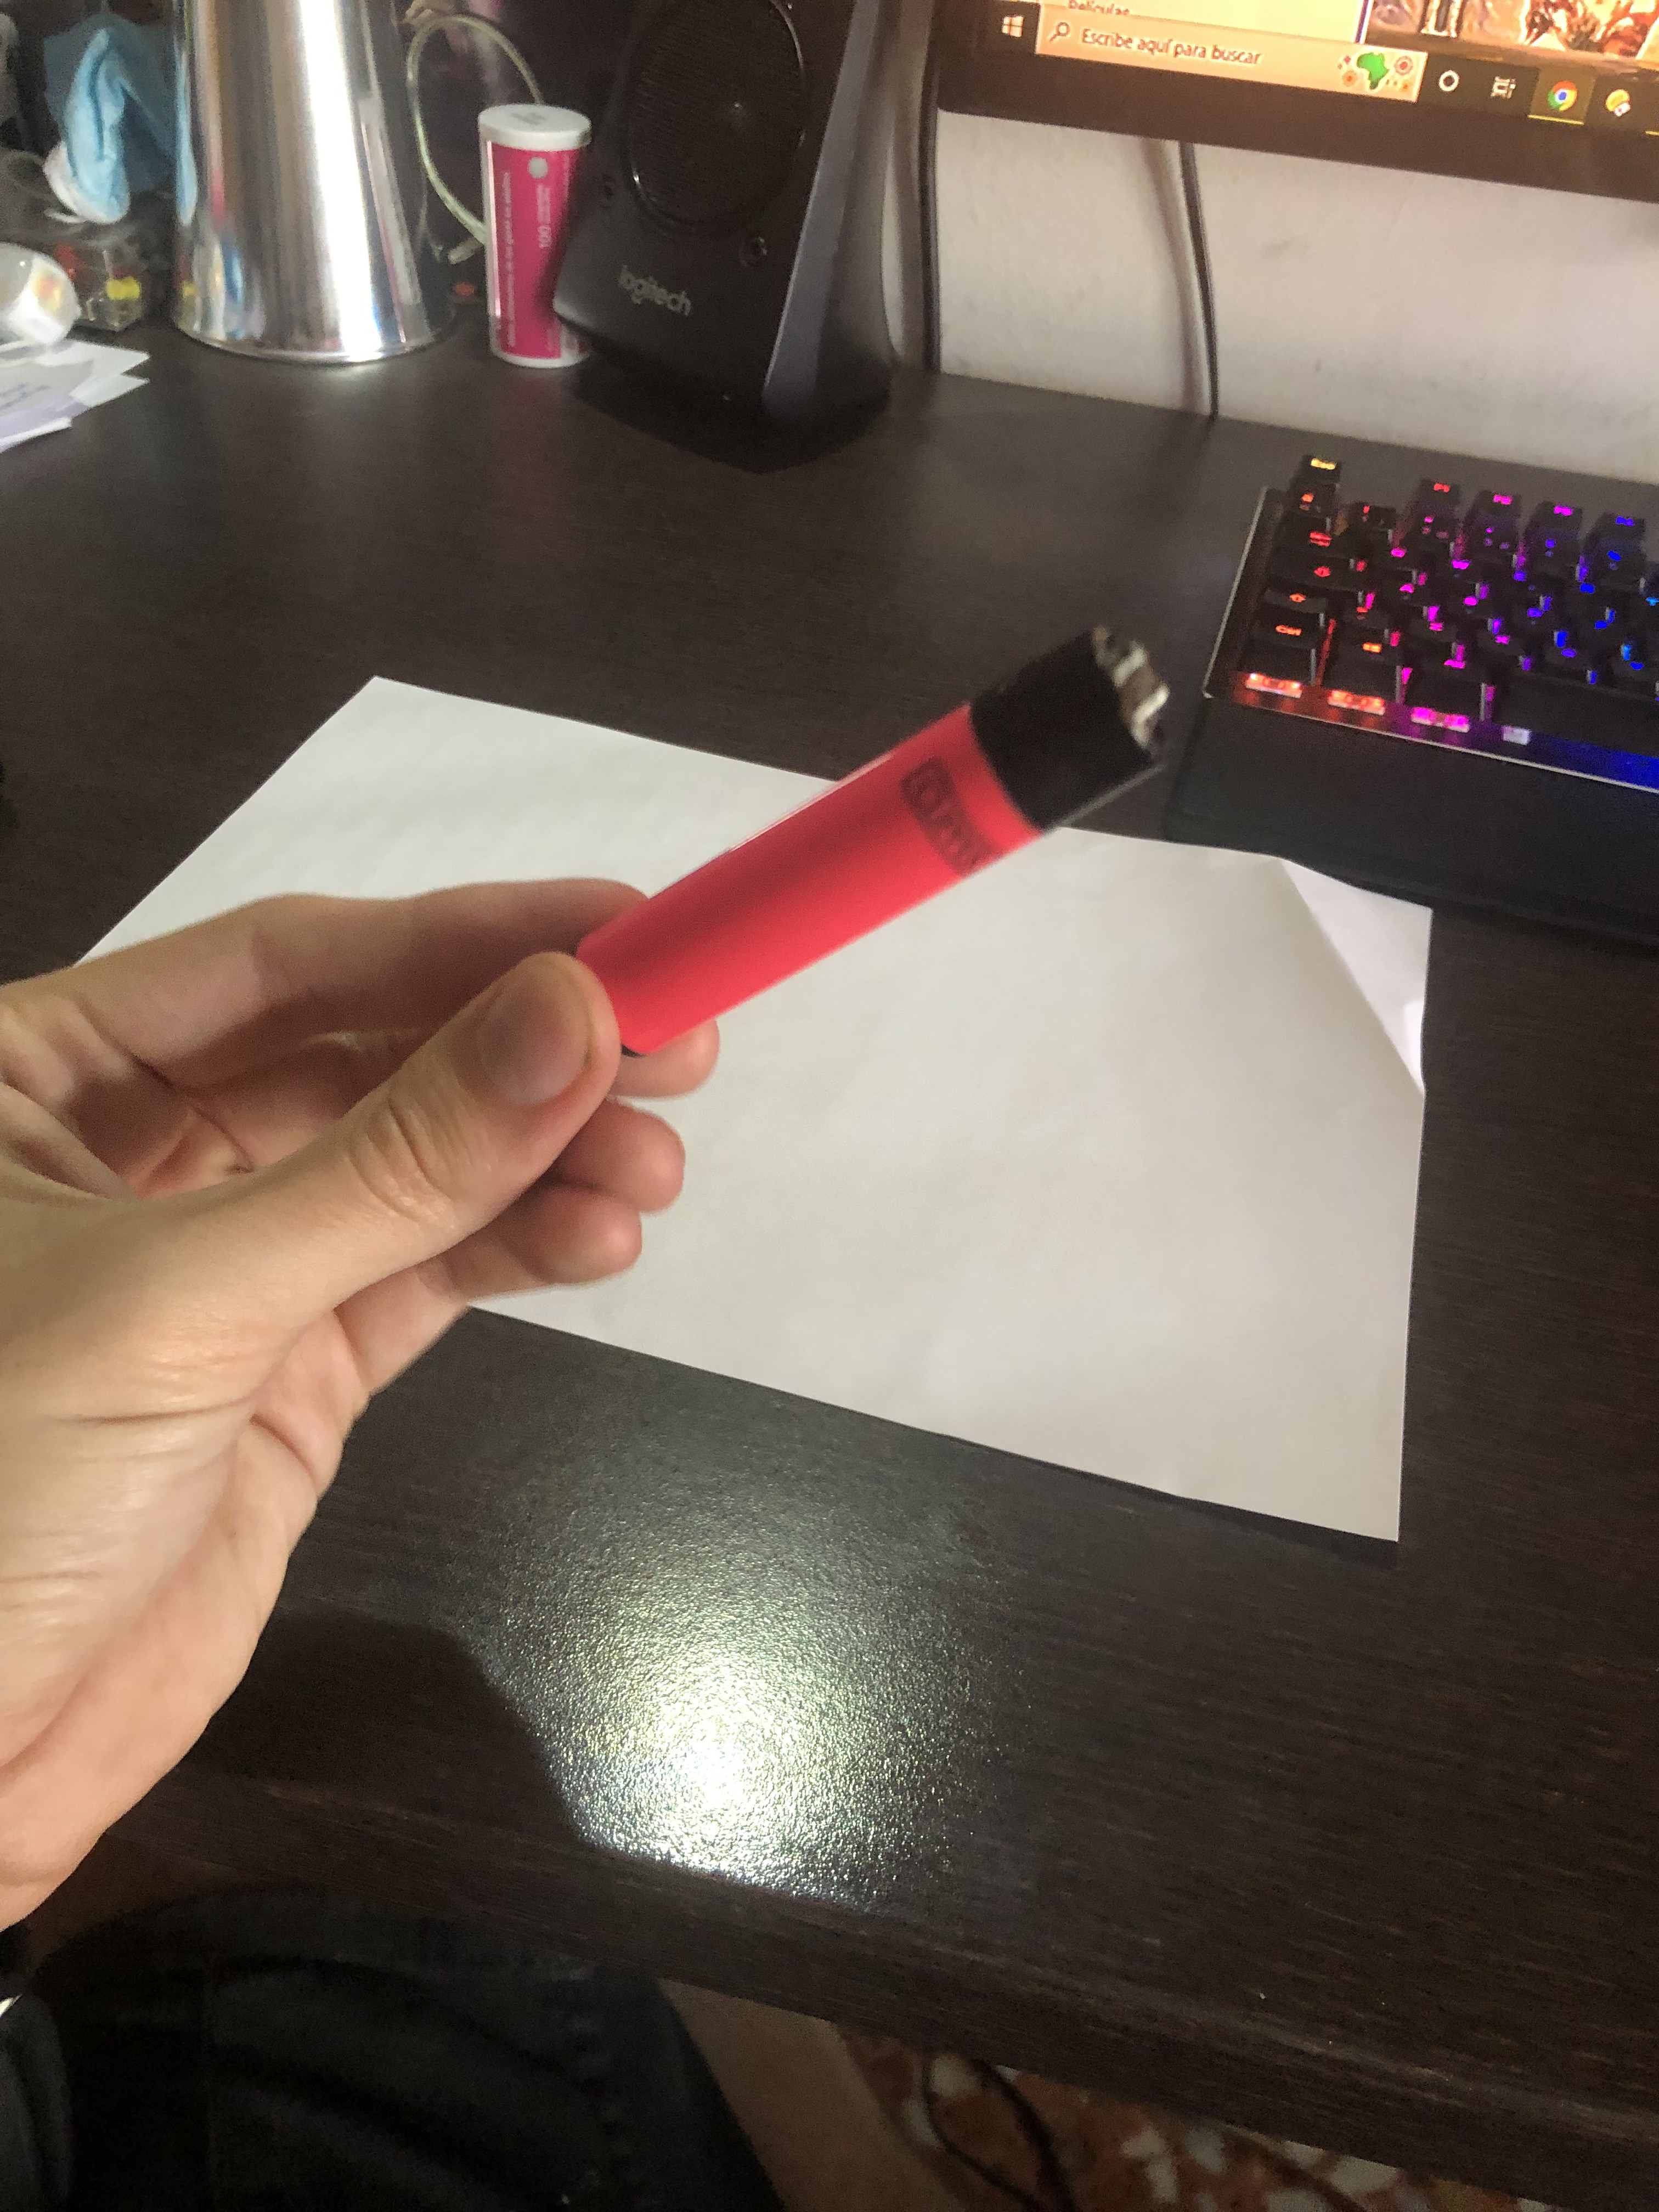Mechero: (556, 622, 1187, 1071)
